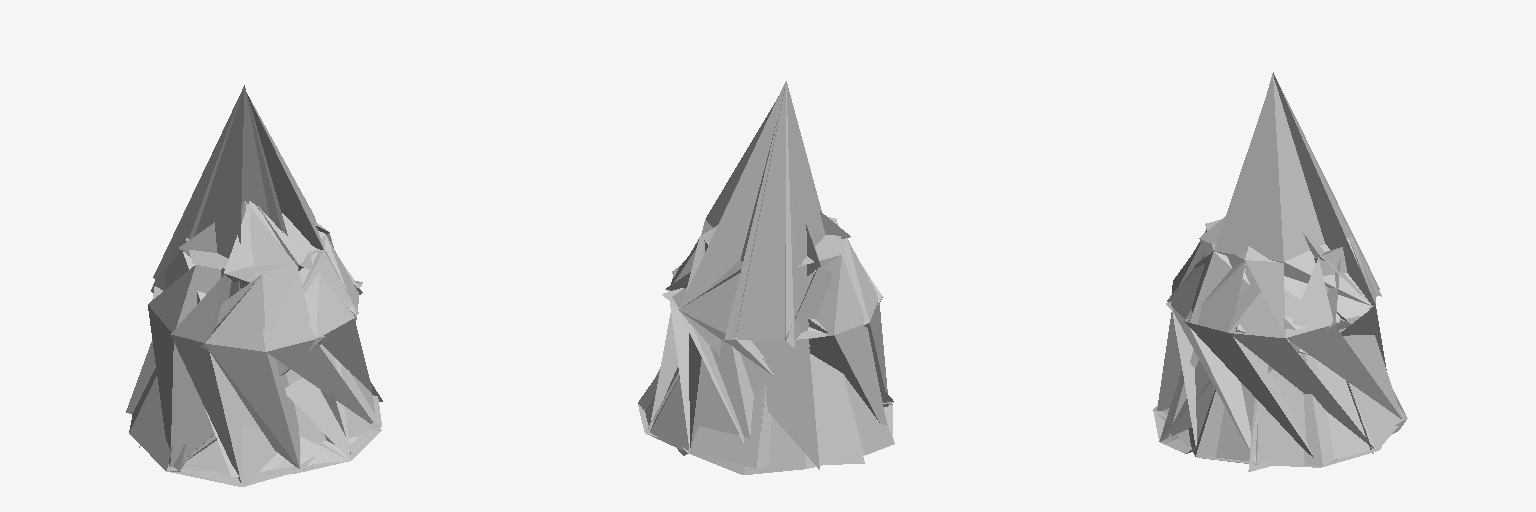
Rendered from pine1.obj.
3 views of the same model, side by side, from view 1: azimuth 30°, elevation 25°; view 2: azimuth 150°, elevation 25°; view 3: azimuth 270°, elevation 25° (orthographic).
Parts seen in each view (by area): view 1: NaturePack Tree2; view 2: NaturePack Tree2; view 3: NaturePack Tree2.
Part boxes in pixels (x1,y1,x2,y2): NaturePack Tree2: (126, 85, 382, 486); NaturePack Tree2: (638, 81, 894, 474); NaturePack Tree2: (1153, 72, 1407, 471).
Size of the model in its own units: 4.67 by 7.06 by 4.62.